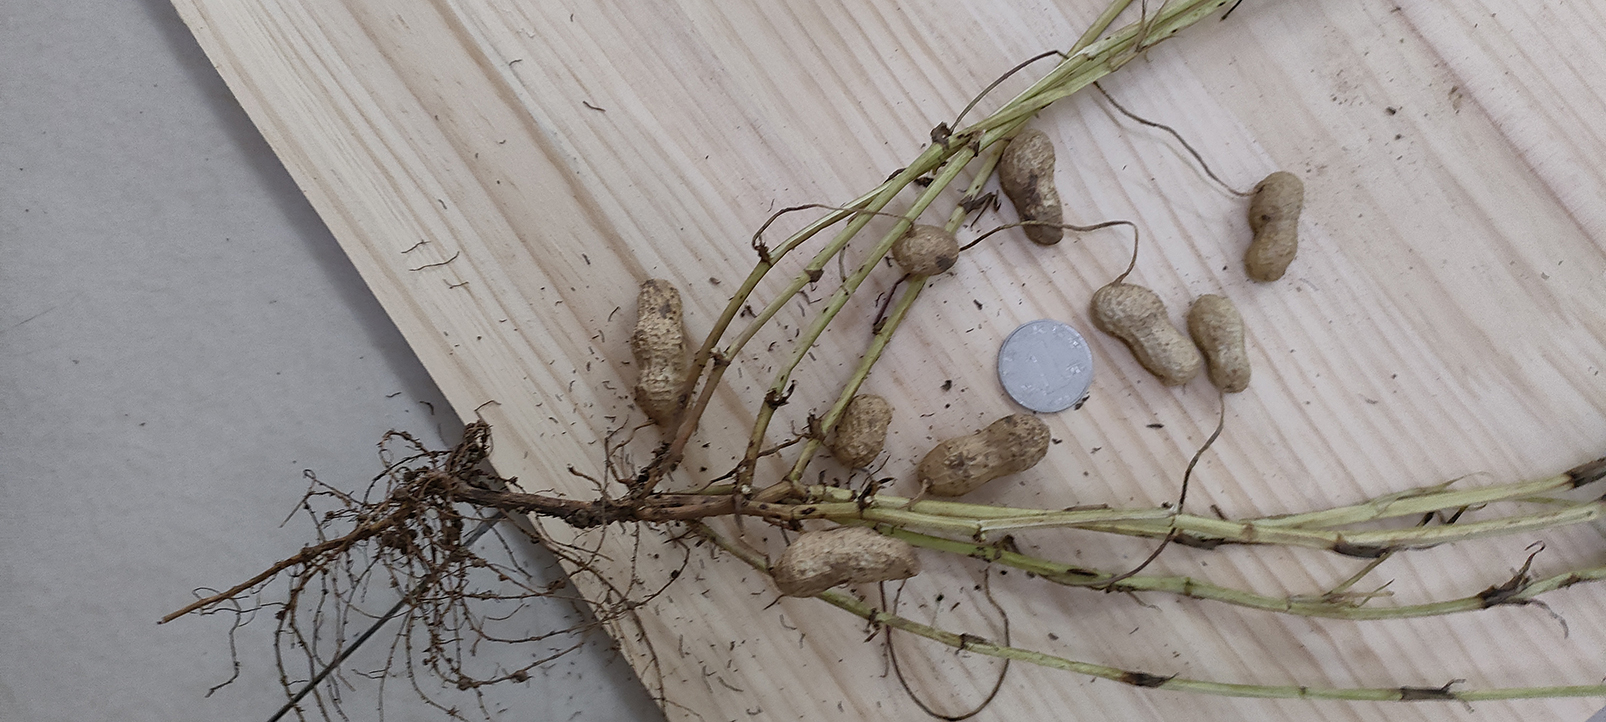h: (1091, 284, 1204, 384), (919, 412, 1051, 496), (777, 524, 922, 596), (630, 278, 689, 426), (1242, 171, 1304, 282), (1188, 295, 1253, 395), (835, 395, 891, 466), (895, 226, 957, 273)
l: (1000, 130, 1066, 247)
